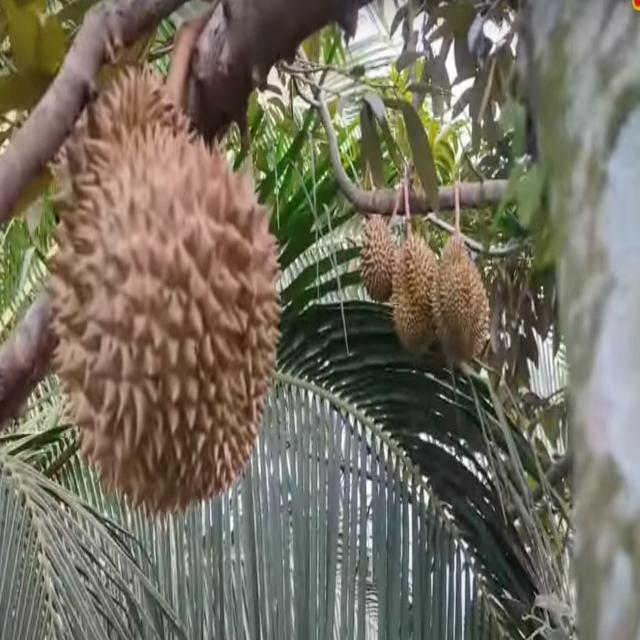mature: (50, 58, 285, 522), (432, 235, 492, 372), (390, 231, 438, 355), (360, 207, 398, 304)
